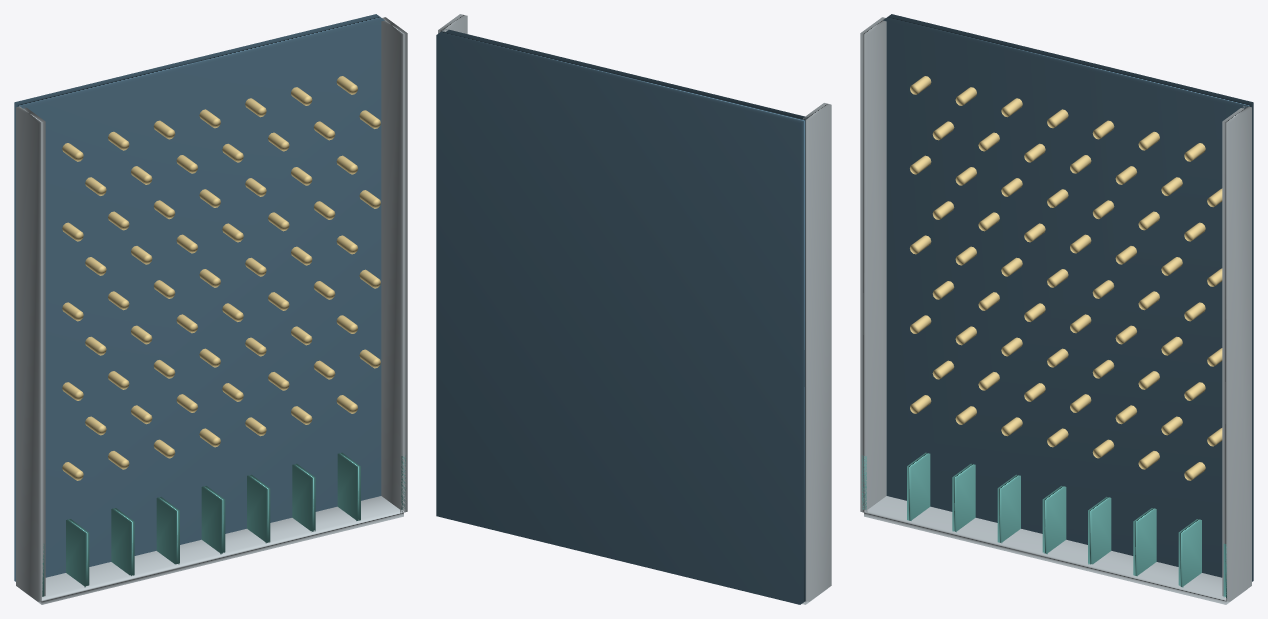
Rendered from plinko-board.glb.
The picture shows the model from 3 angles, left to right: view 1: azimuth 30°, elevation 25°; view 2: azimuth 150°, elevation 25°; view 3: azimuth 330°, elevation 25°; orthographic projection.
Visible parts, largest first — view 1: back, side (×2), bottom, bin_4, bin_5, bin_6, bin_7, bin_2, bin_3, bin_1; view 2: back, side; view 3: back, side (×2), bottom, bin_4, bin_2, bin_3, bin_1, bin_5, bin_6, bin_7.
Part boxes in pixels (x1,y1,x2,y2): back: (14,14,384,581); side (×2): (16,17,407,601); bottom: (20,496,403,604); bin_4: (201,486,225,554); bin_5: (247,474,270,543); bin_6: (292,463,315,531); bin_7: (337,452,360,520); bin_2: (111,508,134,575); bin_3: (156,497,179,564); bin_1: (66,519,89,587); back: (436,29,808,604); side: (803,103,831,601); back: (883,14,1253,581); side (×2): (860,17,1251,601); bottom: (864,496,1247,604); bin_4: (1042,486,1066,554); bin_2: (952,463,975,532); bin_3: (997,474,1020,543); bin_1: (907,452,930,520); bin_5: (1088,497,1111,564); bin_6: (1133,508,1156,576); bin_7: (1178,519,1201,587).
Size of the model in its own units: 1.94 by 2.42 by 0.25.
